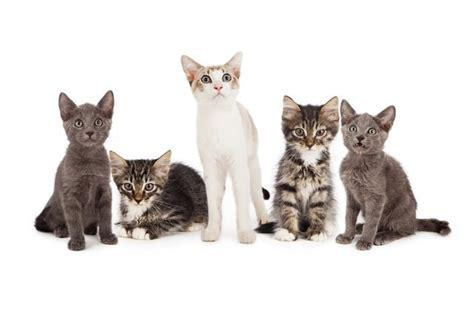cat: (335, 98, 450, 249), (179, 52, 269, 243), (35, 91, 118, 250), (269, 93, 339, 243), (109, 150, 209, 240)
